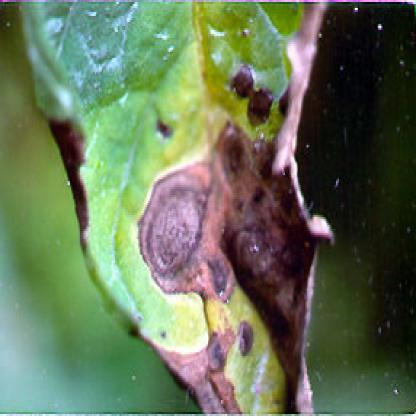Tomato Early blight leaf: (19, 4, 334, 414)
